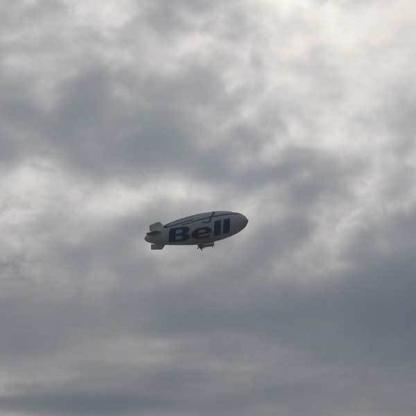Airship: (142, 209, 251, 255)
